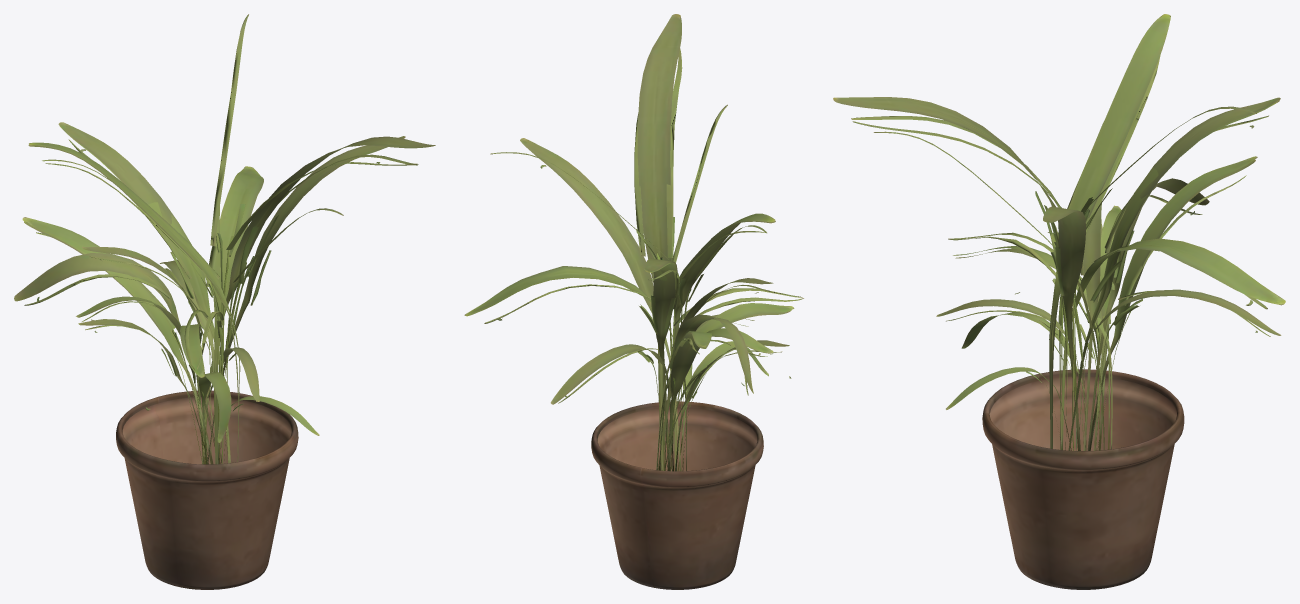
Rendered from office-palm.glb.
3 views of the same model, side by side, from view 1: azimuth 30°, elevation 25°; view 2: azimuth 150°, elevation 25°; view 3: azimuth 270°, elevation 25° (orthographic). The views are drawn at different scales.
Parts seen in each view (by area): view 1: Pflanze_Pflanzenmaterial_0; view 2: Pflanze_Pflanzenmaterial_0; view 3: Pflanze_Pflanzenmaterial_0.
Boxes of the visible parts, x1,y1,x2,y2 form: Pflanze_Pflanzenmaterial_0: [14, 14, 435, 589]; Pflanze_Pflanzenmaterial_0: [464, 14, 803, 589]; Pflanze_Pflanzenmaterial_0: [833, 14, 1285, 589].
Size of the model in its own units: 199 by 279 by 219.
Materials: 1 (1 with a texture image).
